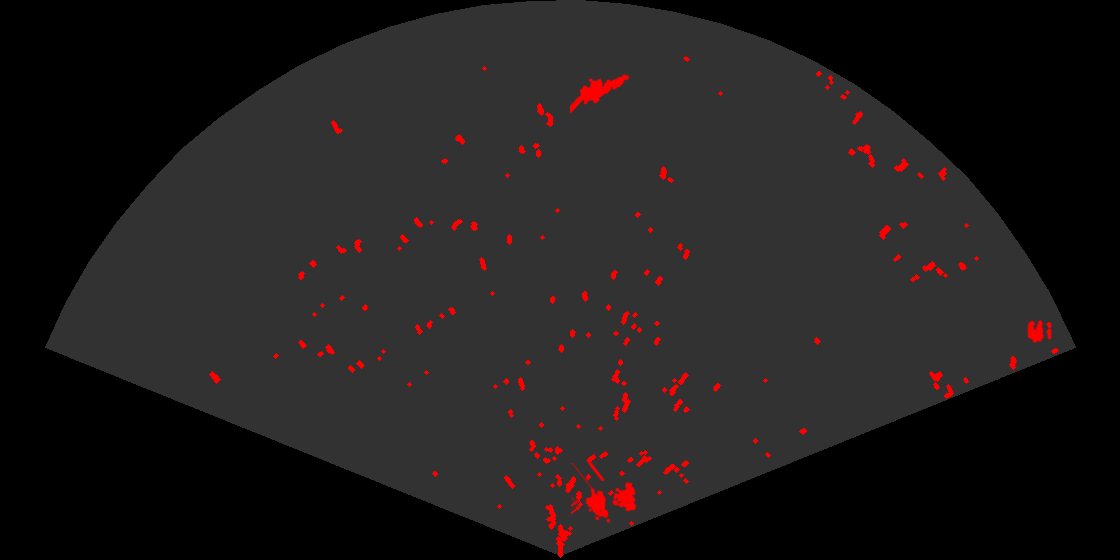ball: (1026, 318, 1053, 344)
cage: (571, 463, 638, 524)
frogman: (570, 72, 631, 115)
